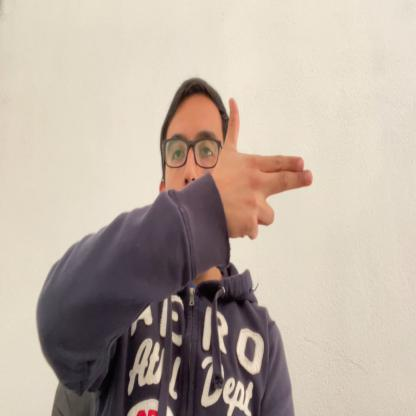H: (222, 96, 313, 240)
